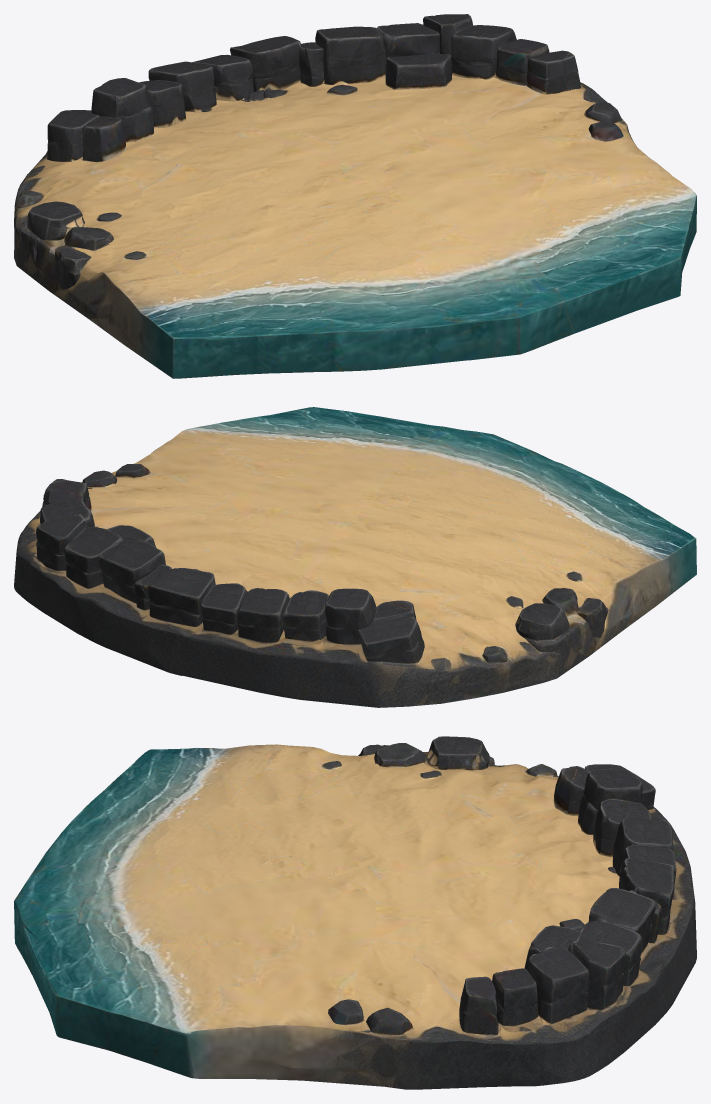
Rendered from beach-shelf.glb.
The picture shows the model from 3 angles, top to bottom: view 1: azimuth 30°, elevation 25°; view 2: azimuth 150°, elevation 25°; view 3: azimuth 270°, elevation 25°; orthographic projection. The views are drawn at different scales.
Bounding box in the file's own units: 1.9 × 0.3056 × 1.83.
1 material, 1 textured.
